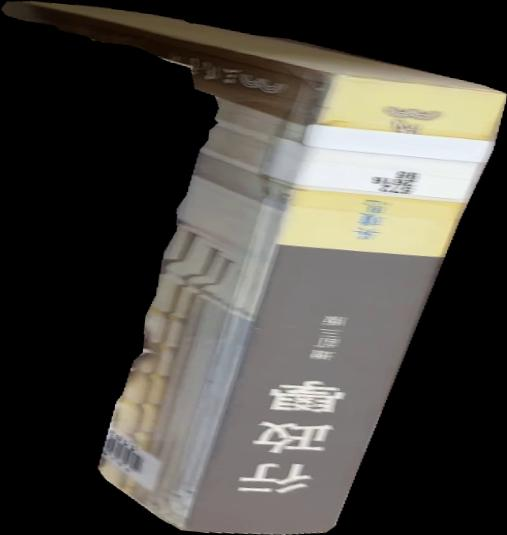reverse: (1, 1, 507, 535)
